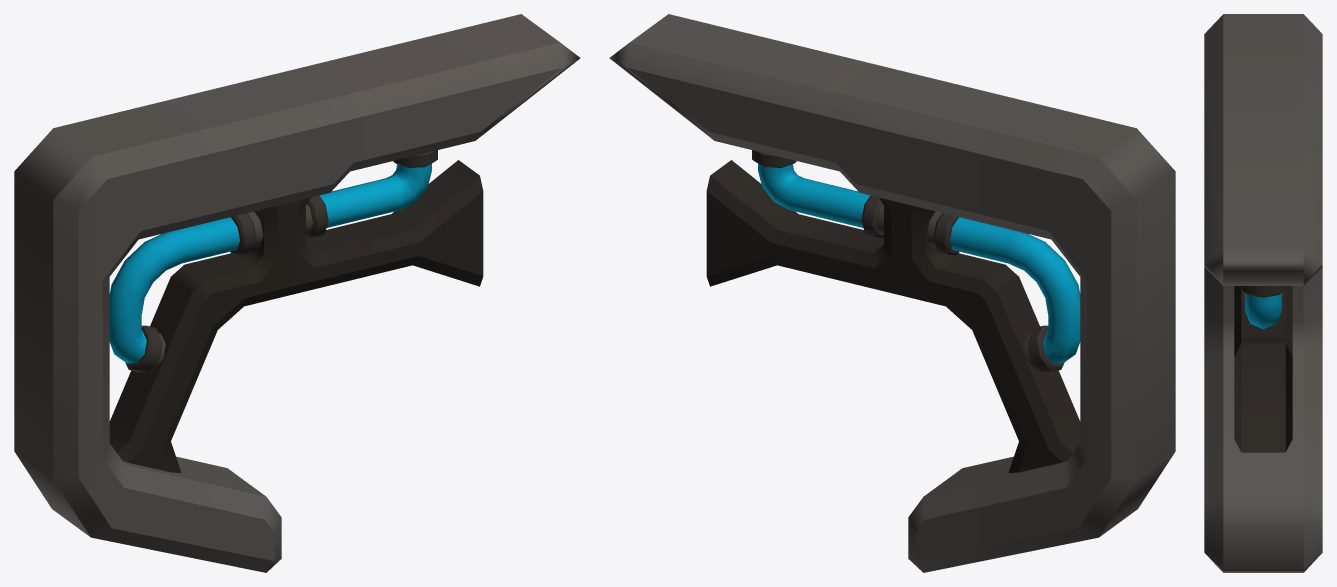
File: SMG11_Buttstock.fbx
3 views of the same model, side by side, from view 1: azimuth 30°, elevation 25°; view 2: azimuth 150°, elevation 25°; view 3: azimuth 270°, elevation 25° (orthographic). The views are drawn at different scales.
Visible parts, largest first — view 1: SMG11_Buttstock; view 2: SMG11_Buttstock; view 3: SMG11_Buttstock.
Boxes of the visible parts, x1=… form: SMG11_Buttstock: x1=14, y1=14, x2=580, y2=572; SMG11_Buttstock: x1=609, y1=14, x2=1175, y2=572; SMG11_Buttstock: x1=1204, y1=14, x2=1322, y2=572.
Size of the model in its own units: 16.85 by 14 by 3.19.
